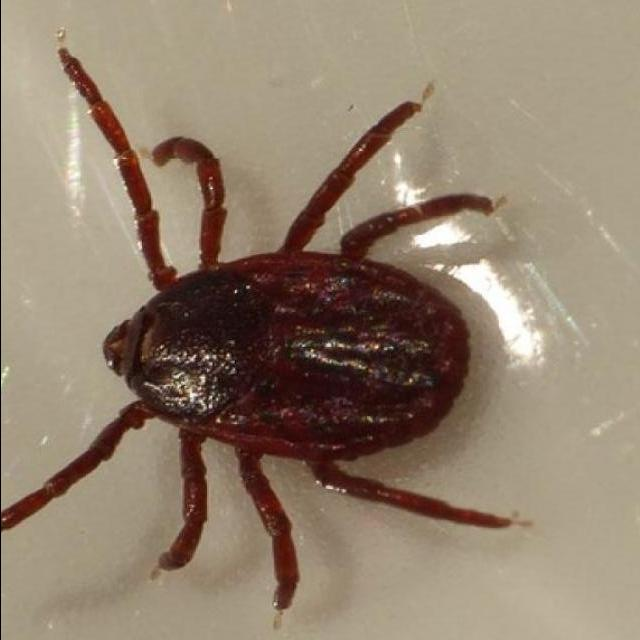Rhipicephalus Sanguineus-F: (0, 36, 517, 612)
